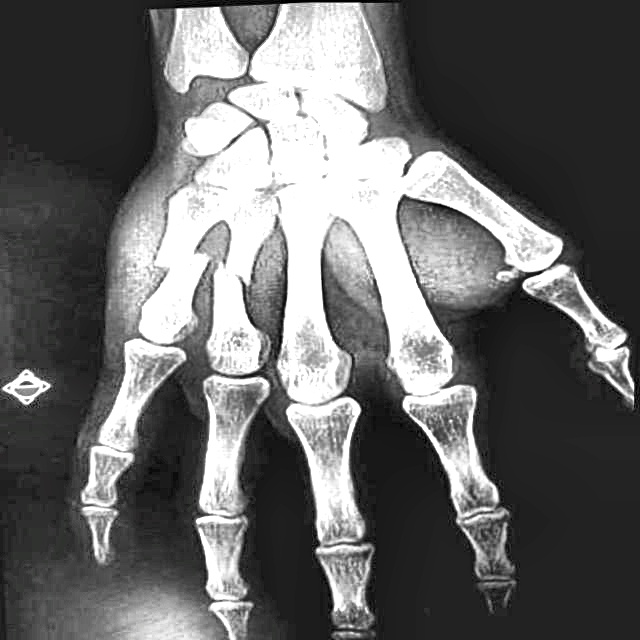Transverse: (129, 219, 217, 290)
Transverse Displaced: (201, 238, 274, 317)
